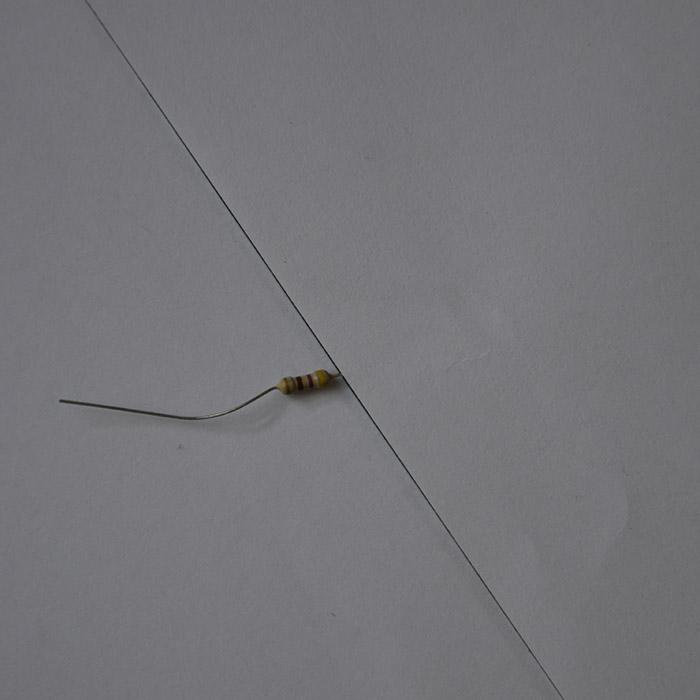resistor: (278, 368, 333, 394)
